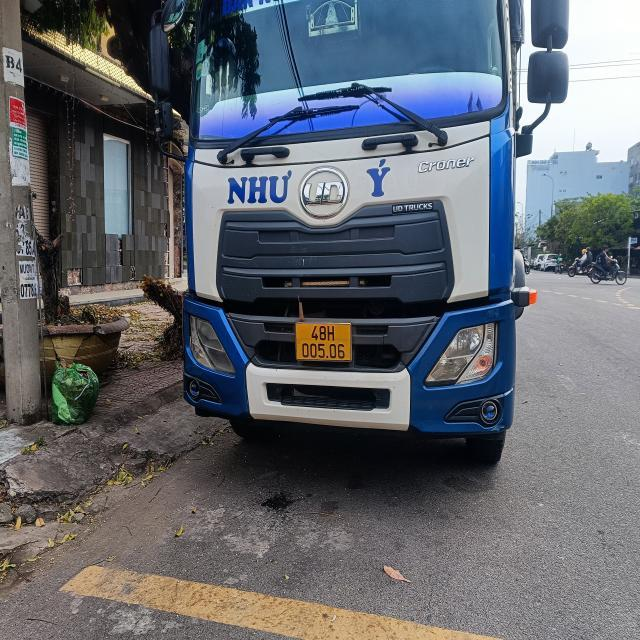car: (172, 0, 537, 459)
plate: (291, 316, 356, 365)
